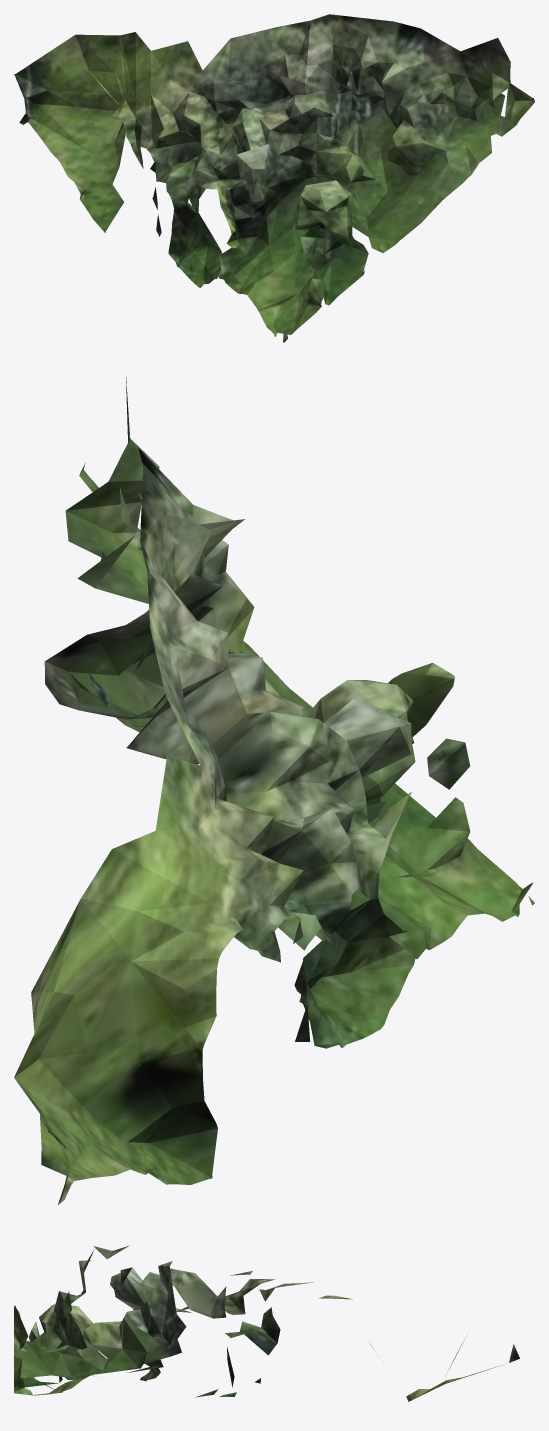
3 views of the same model, one above another, from view 1: azimuth 30°, elevation 25°; view 2: azimuth 150°, elevation 25°; view 3: azimuth 270°, elevation 25° (orthographic). The views are drawn at different scales.
Bounding box in the file's own units: 47.52 × 48.59 × 88.83.
Materials: 2 (2 with a texture image).
